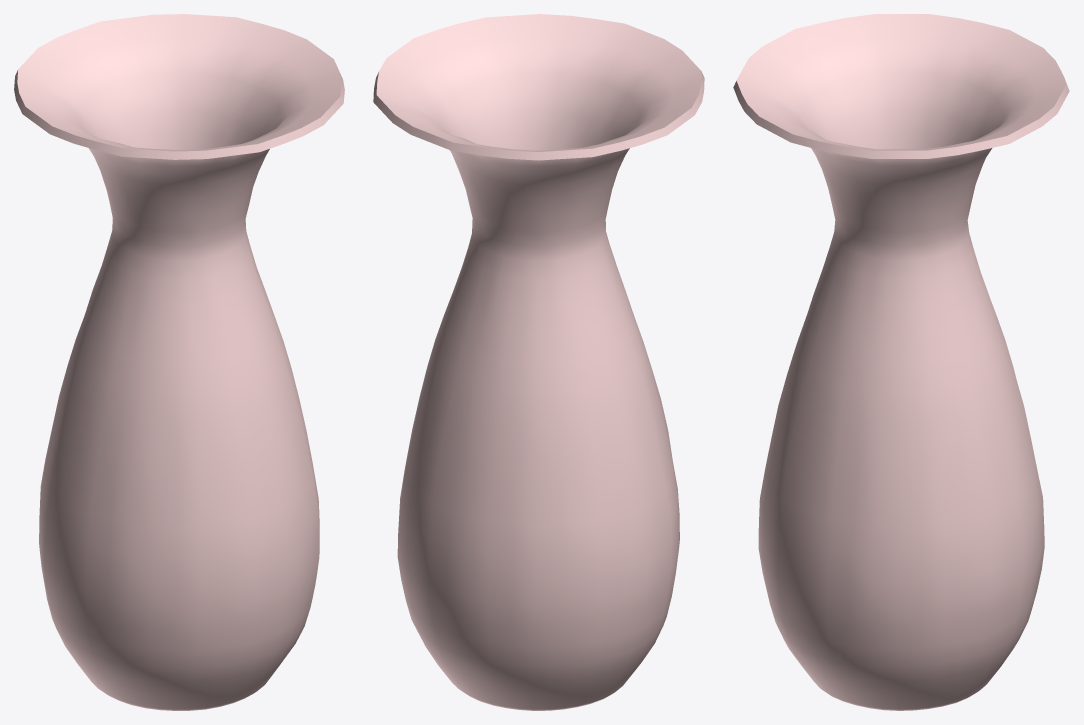
The model's file is Vase.fbx.
The picture shows the model from 3 angles, left to right: view 1: azimuth 30°, elevation 25°; view 2: azimuth 150°, elevation 25°; view 3: azimuth 270°, elevation 25°; orthographic projection.
Visible parts, largest first — view 1: F_Vase; view 2: F_Vase; view 3: F_Vase.
Boxes of the visible parts, x1,y1,x2,y2 form: F_Vase: [14, 14, 344, 710]; F_Vase: [373, 14, 704, 710]; F_Vase: [733, 14, 1069, 710].
Bounding box in the file's own units: 43.44 × 86.13 × 44.29.
